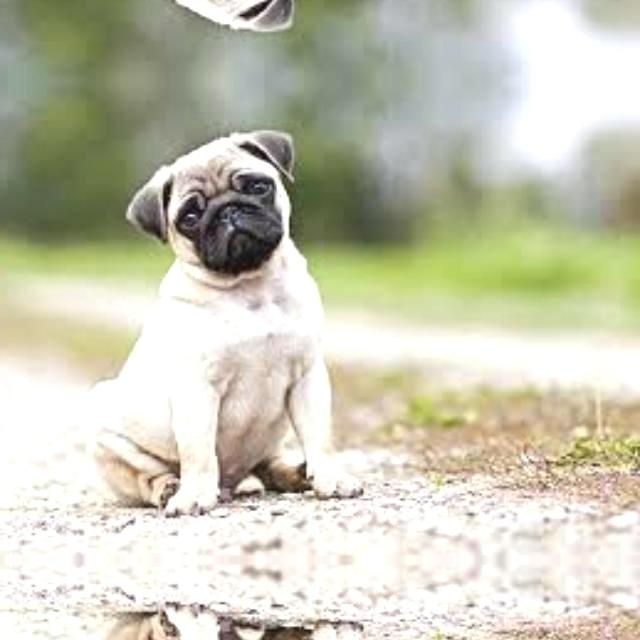dog: (79, 110, 368, 506), (79, 0, 368, 50), (79, 612, 368, 640)
